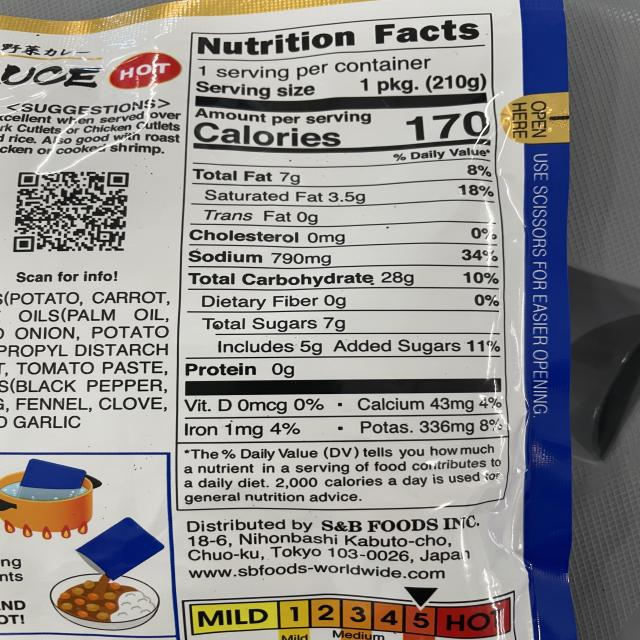object_name: (7, 11, 553, 640)
